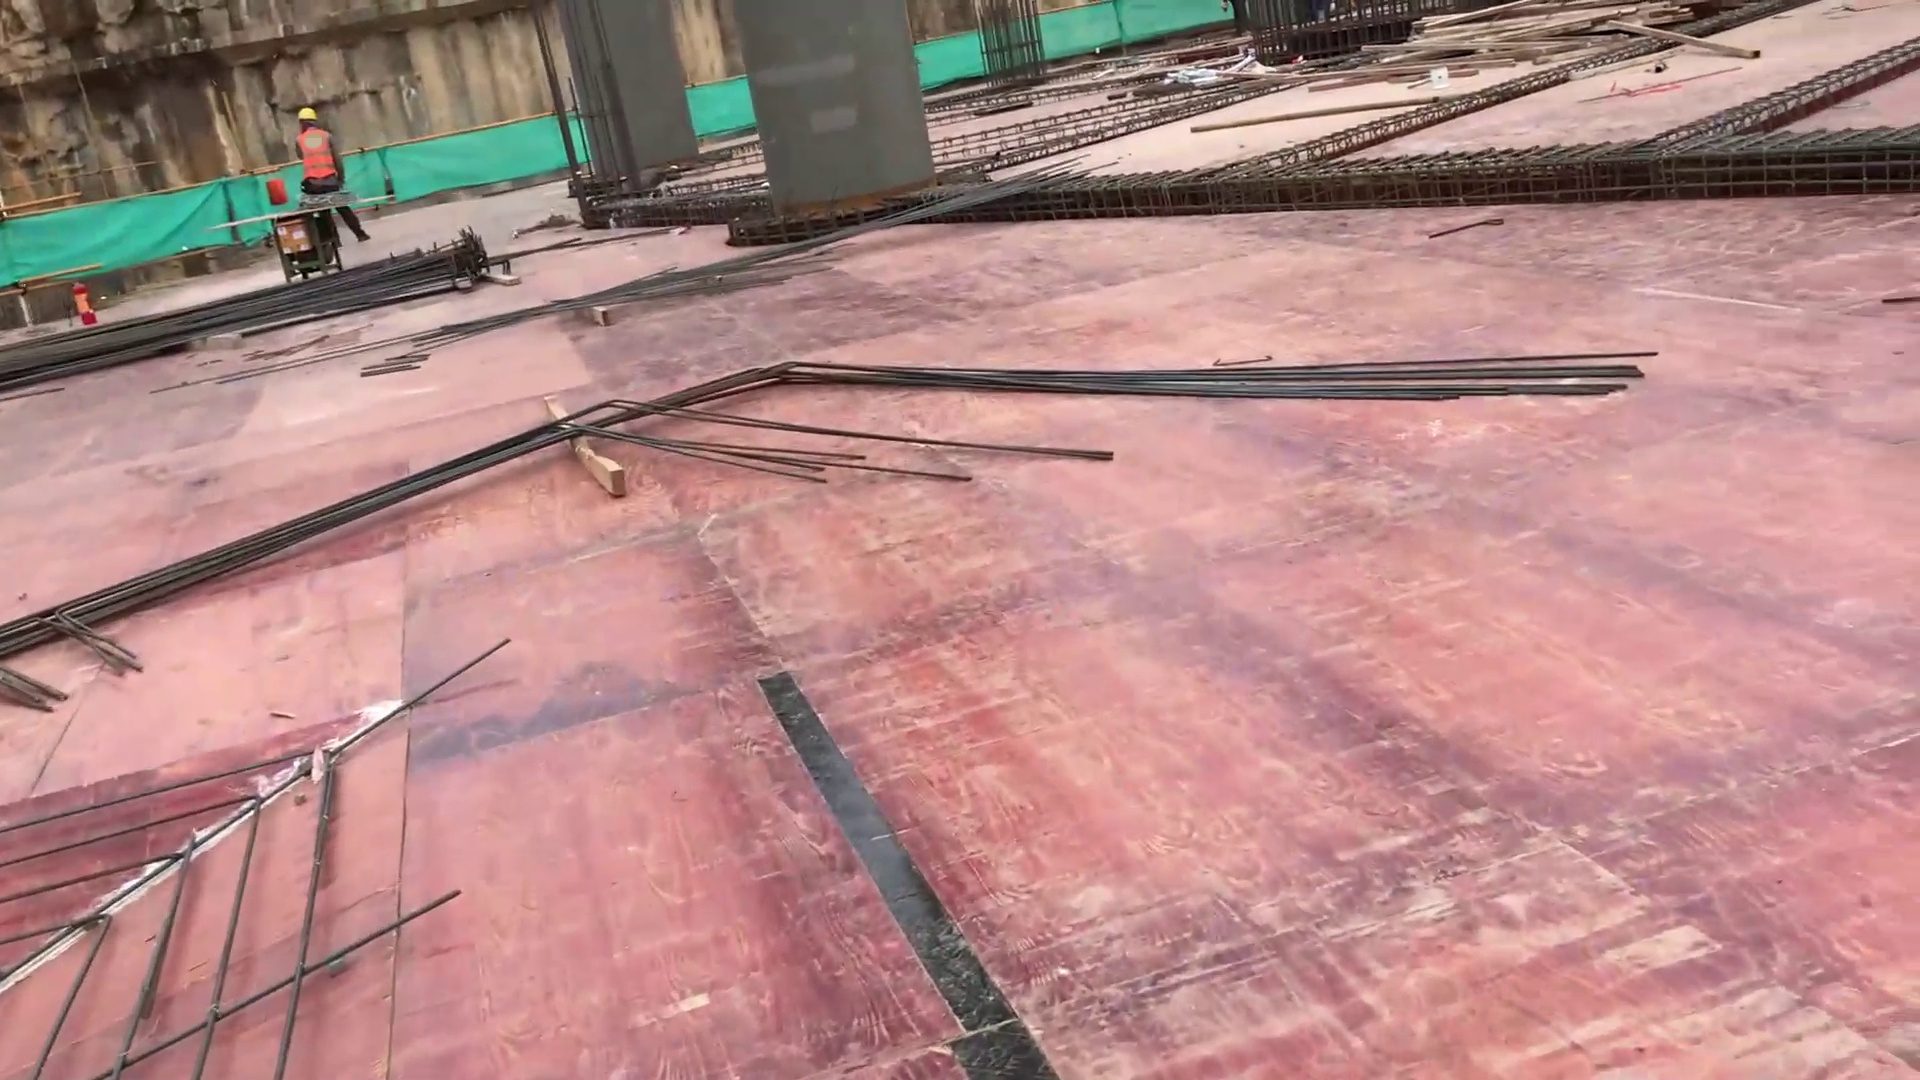cutter: (210, 194, 403, 279)
helmet: (296, 106, 320, 124)
person: (291, 103, 372, 250)
rebar: (1, 361, 815, 708), (1, 226, 494, 390)
vest: (294, 127, 339, 184)
